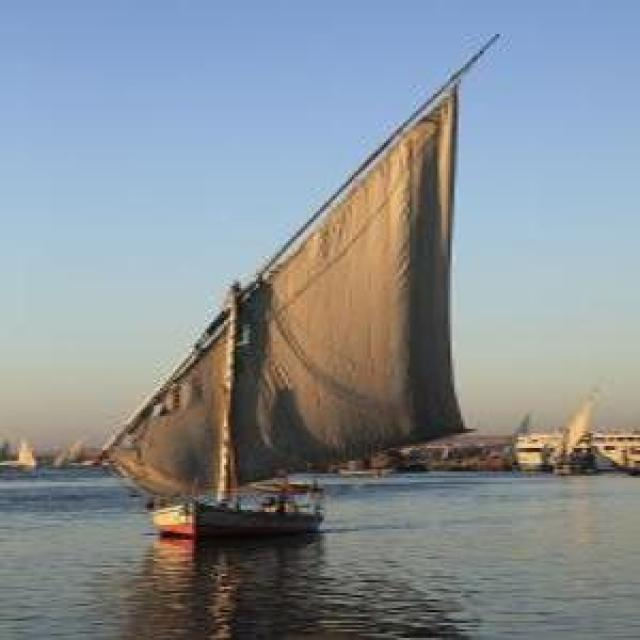sailboat: (119, 20, 496, 545)
